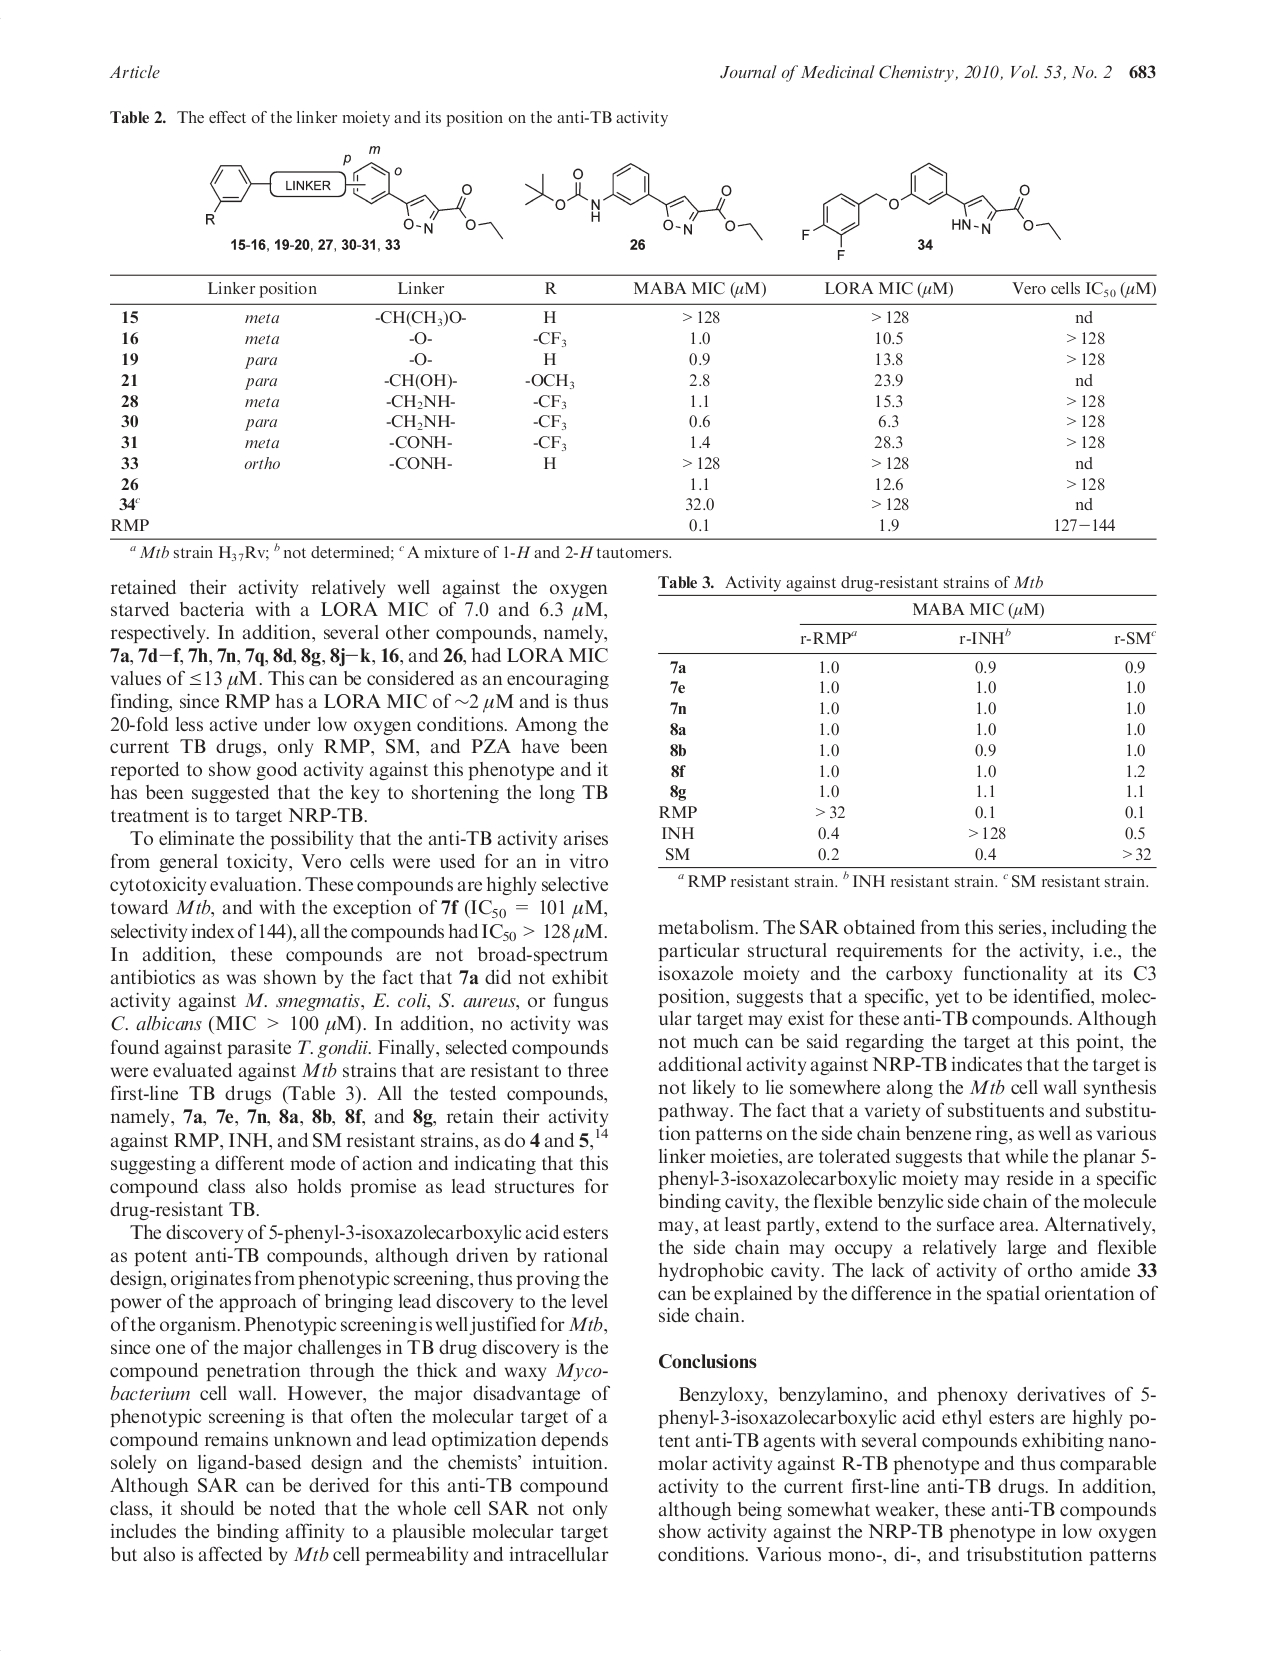exist_molecular: (801, 161, 1063, 259), (199, 162, 504, 243), (523, 161, 765, 243)
